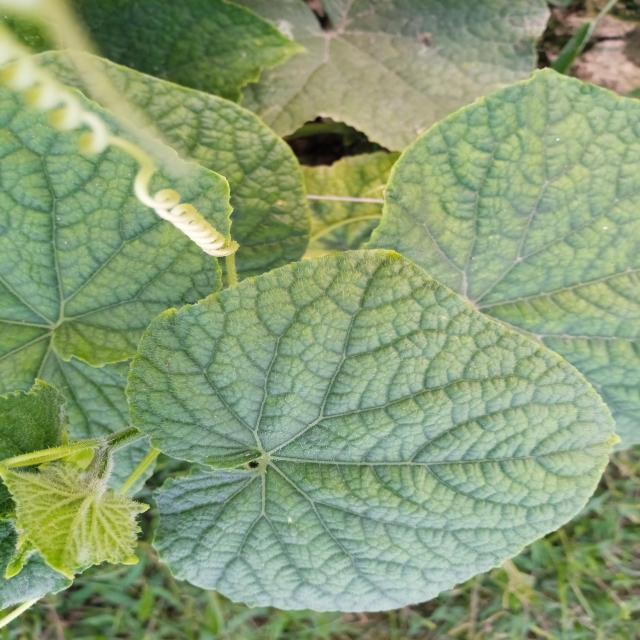cucumber_healthy: (119, 244, 627, 619), (1, 44, 315, 380), (384, 63, 640, 452)
